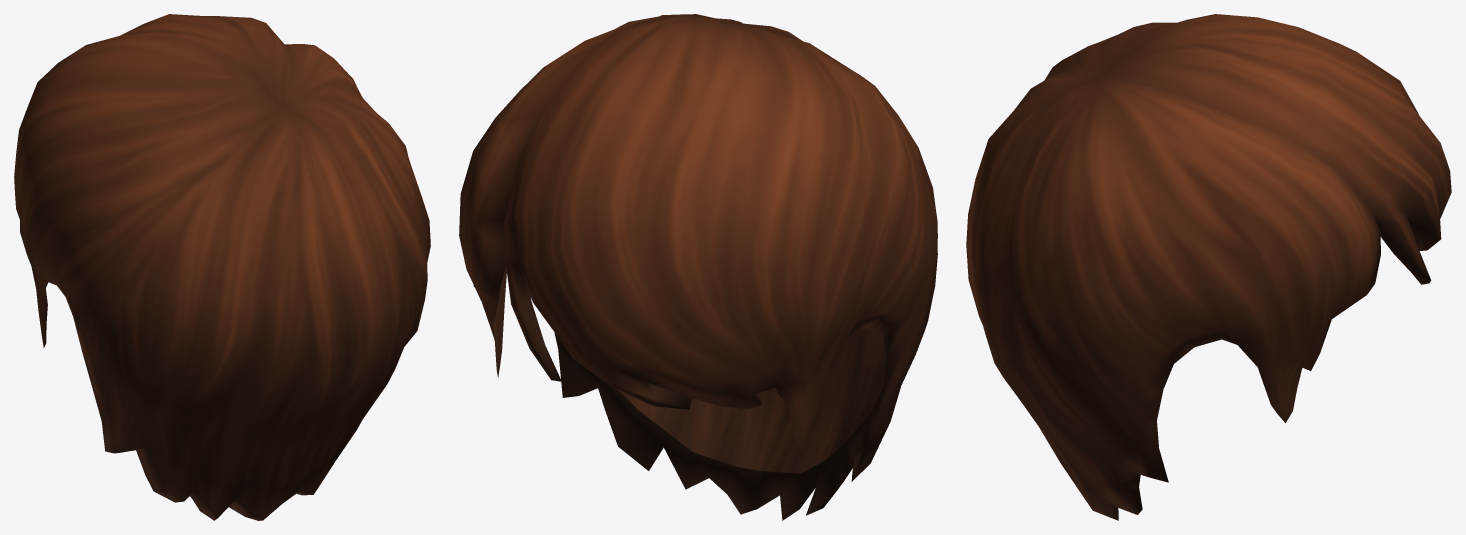
File: Hair_Male_004_textured_brown.glb
3 renders of one model, left to right at view 1: azimuth 30°, elevation 25°; view 2: azimuth 150°, elevation 25°; view 3: azimuth 270°, elevation 25°, orthographic. The views are drawn at different scales.
Parts seen in each view (by area): view 1: Hair_Male_004; view 2: Hair_Male_004; view 3: Hair_Male_004.
Boxes of the visible parts, <box> form: Hair_Male_004: <box>14,14,430,520</box>; Hair_Male_004: <box>459,14,937,520</box>; Hair_Male_004: <box>966,14,1451,520</box>.
Bounding box in the file's own units: 0.189 × 0.2477 × 0.2273.
1 material, 1 textured.
